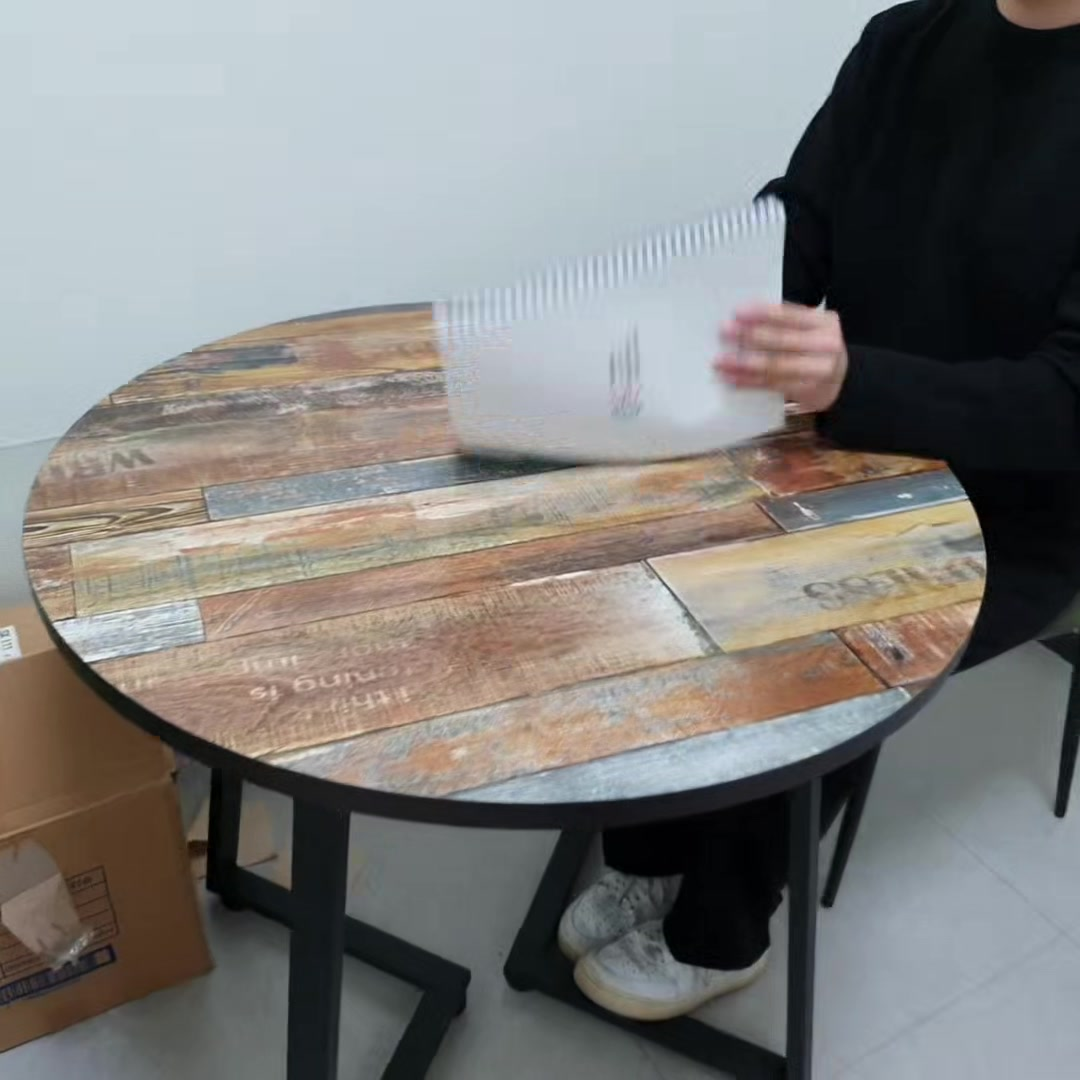book: (440, 208, 792, 454)
